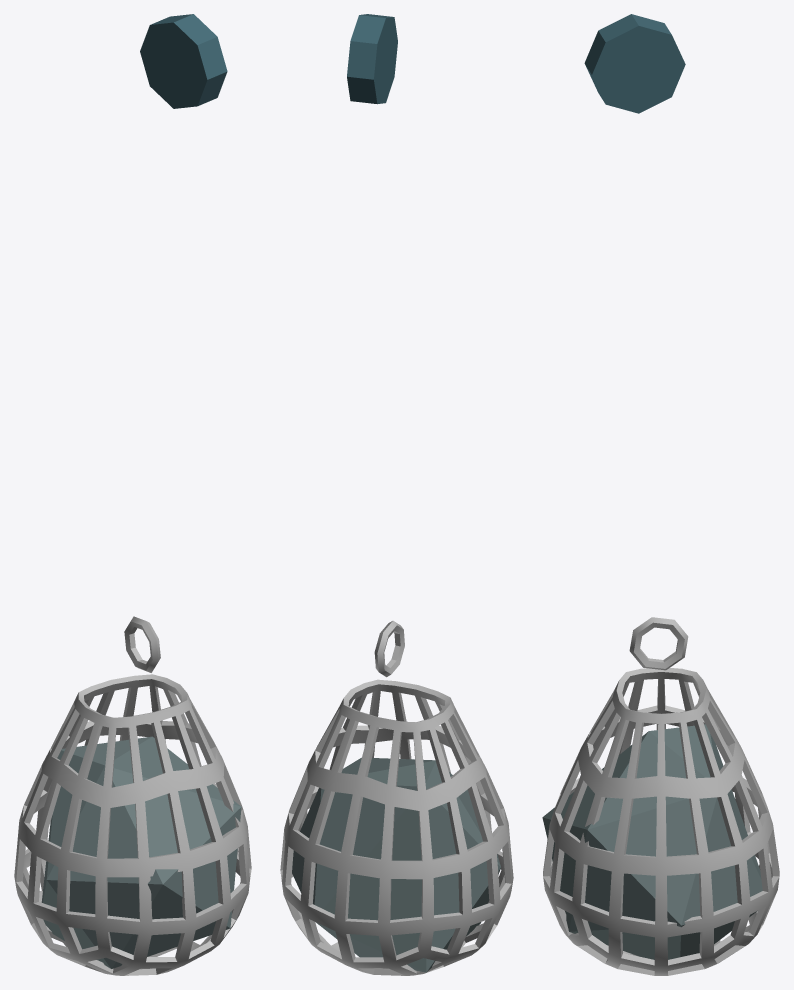
The picture shows the model from 3 angles, left to right: view 1: azimuth 30°, elevation 25°; view 2: azimuth 150°, elevation 25°; view 3: azimuth 270°, elevation 25°; orthographic projection. The views are drawn at different scales.
Parts seen in each view (by area): view 1: Box167_grey_0, GeoSphere007_rock_0, Cylinder1446_metal_0, Circle016_grey_0; view 2: Box167_grey_0, GeoSphere007_rock_0, Cylinder1446_metal_0, Circle016_grey_0; view 3: Box167_grey_0, GeoSphere007_rock_0, Cylinder1446_metal_0, Circle016_grey_0.
Part boxes in pixels (bbox=[...]): Box167_grey_0: bbox=[14, 674, 251, 975]; GeoSphere007_rock_0: bbox=[41, 736, 241, 968]; Cylinder1446_metal_0: bbox=[140, 14, 227, 108]; Circle016_grey_0: bbox=[124, 616, 160, 672]; Box167_grey_0: bbox=[280, 679, 513, 975]; GeoSphere007_rock_0: bbox=[292, 757, 500, 972]; Cylinder1446_metal_0: bbox=[347, 14, 397, 104]; Circle016_grey_0: bbox=[374, 620, 404, 677]; Box167_grey_0: bbox=[543, 668, 779, 975]; GeoSphere007_rock_0: bbox=[542, 724, 762, 959]; Cylinder1446_metal_0: bbox=[584, 14, 685, 113]; Circle016_grey_0: bbox=[629, 617, 688, 670].
Bounding box in the file's own units: 453 × 1996 × 447.
